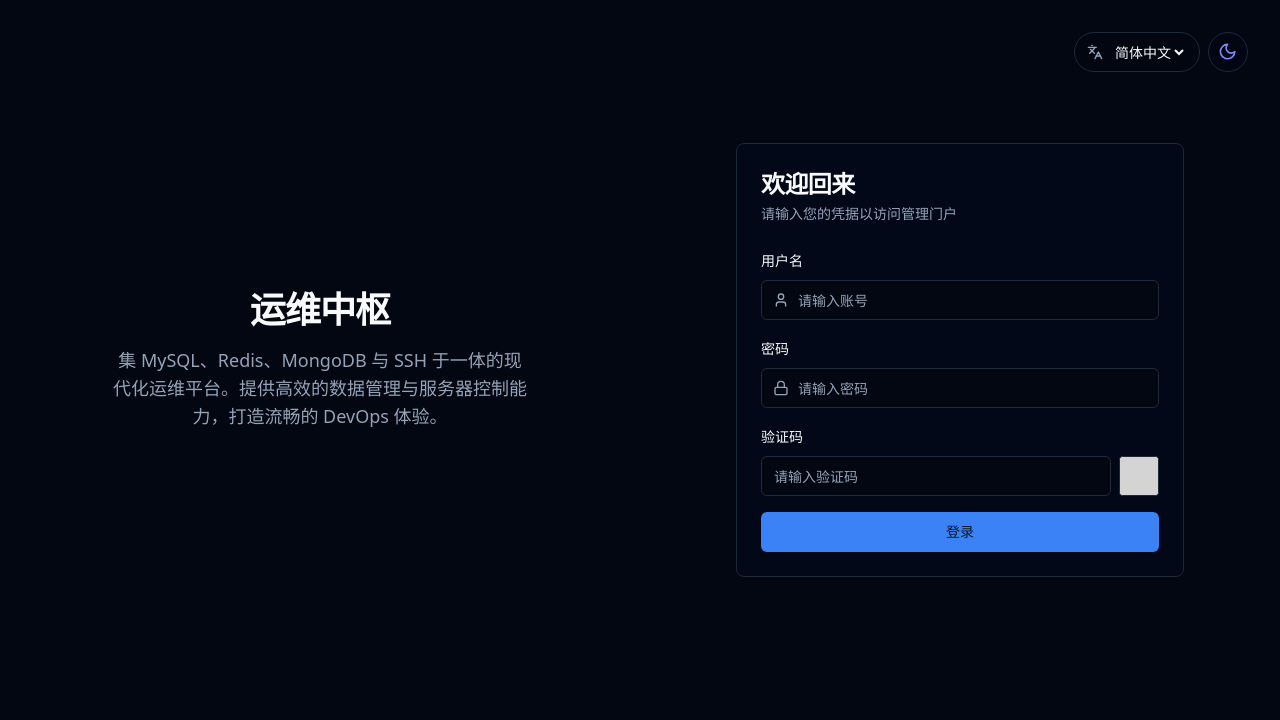
live language switching › updates the login form, an existing error, and document language without clearing input
Type "运维-admin" into the field labelled "用户名" at (960, 300), box [761,280,1159,320]
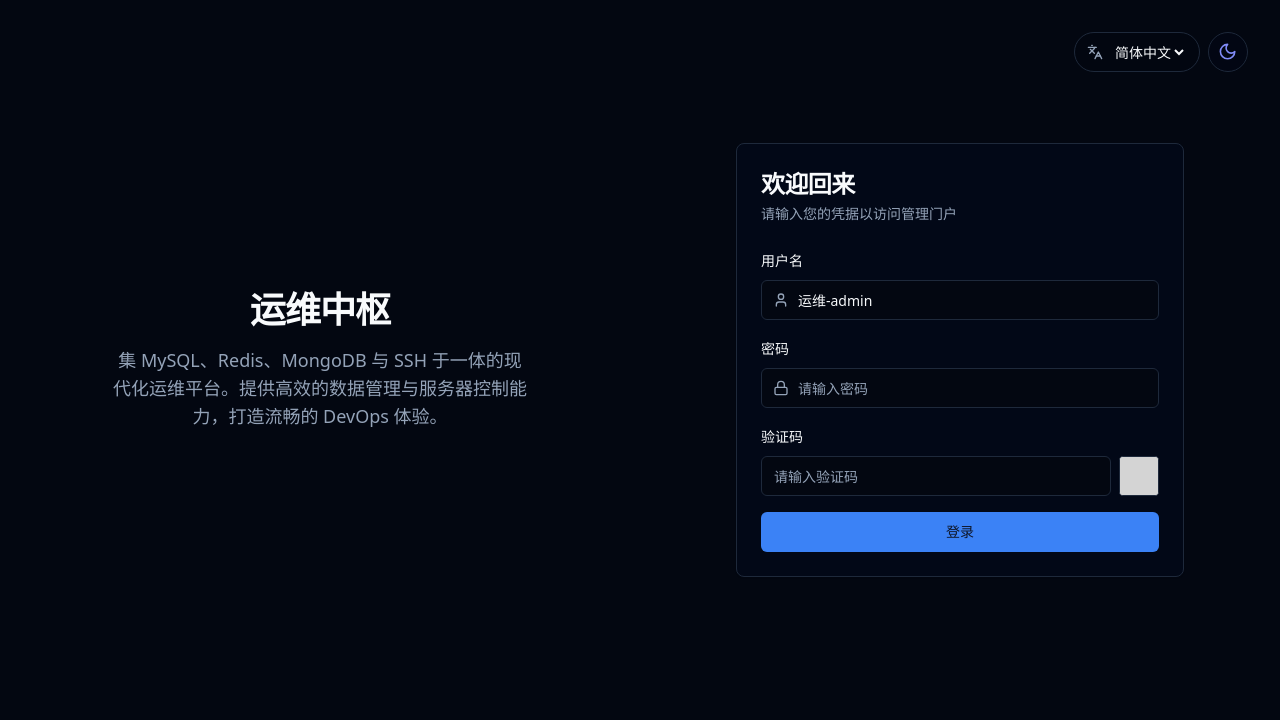
Type "test-password" into the password field labelled "密码" at (960, 388), box [761,368,1159,408]
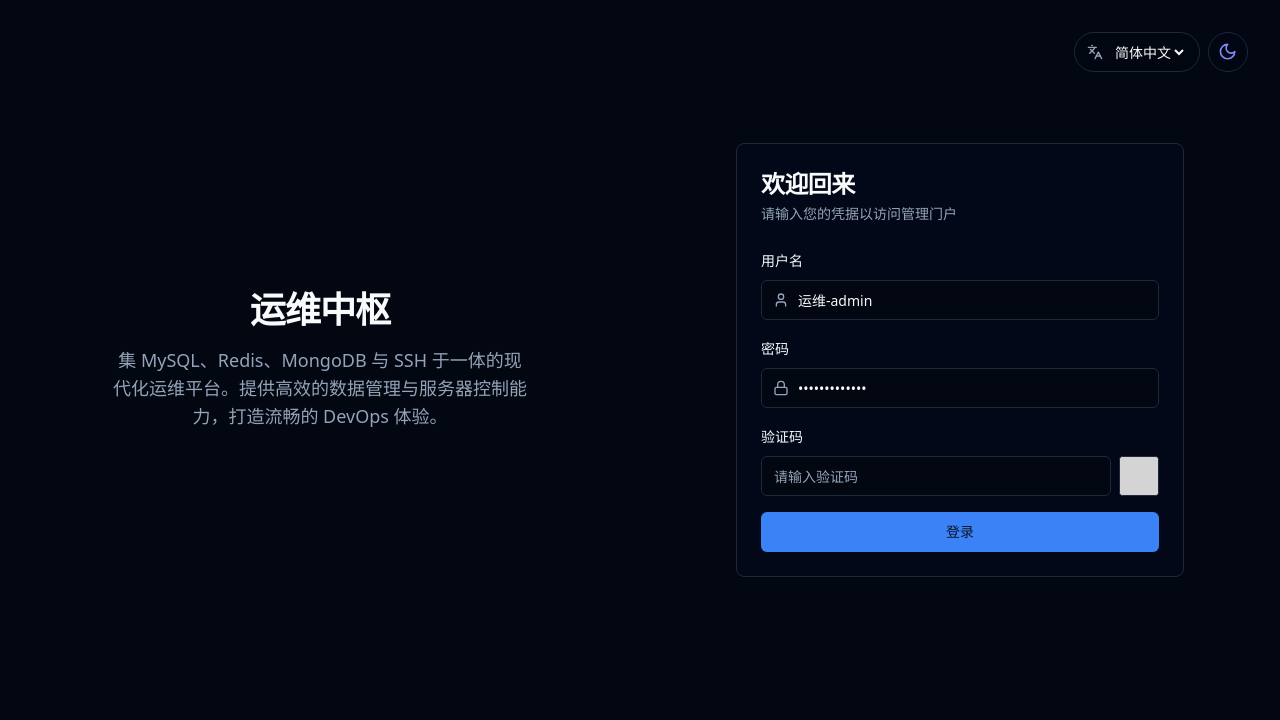
Click the button "登录" at (960, 532), box [761,512,1159,552]
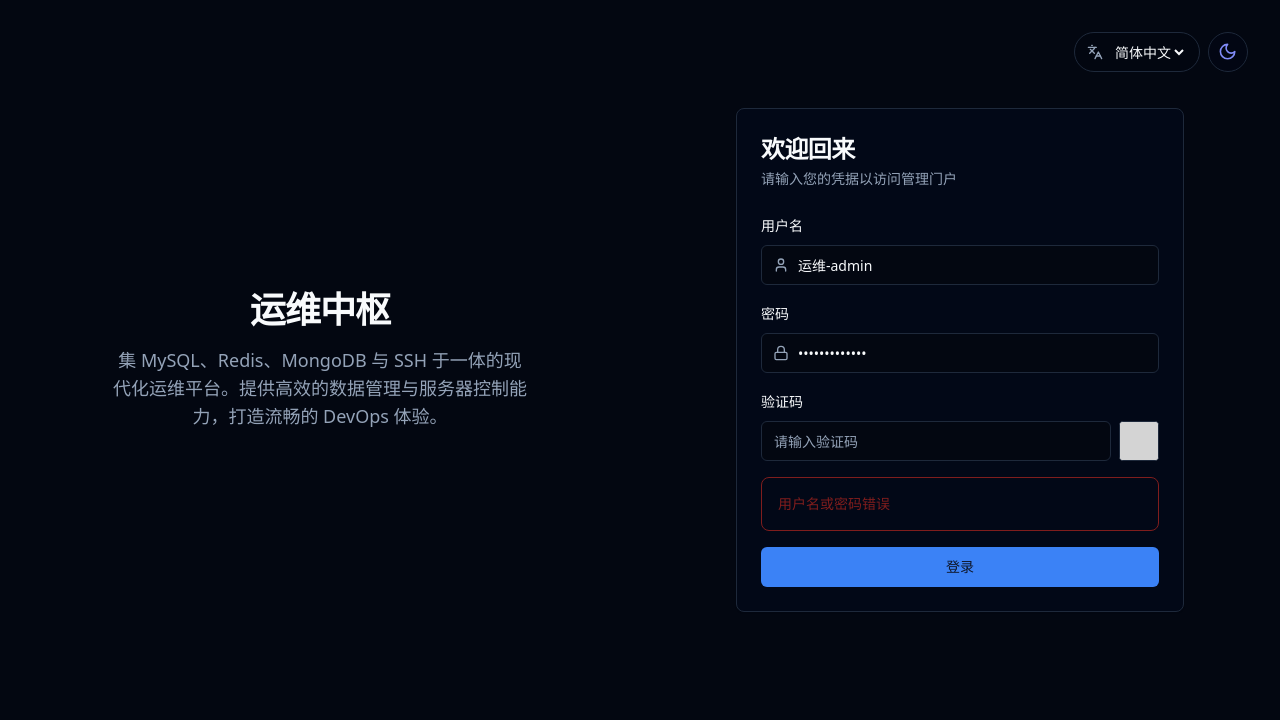
Result: the text "用户名或密码错误" is shown at [778,494,890,513]
Select "English" in the dropdown named "语言" at (1149, 52), box [1111,42,1187,62]
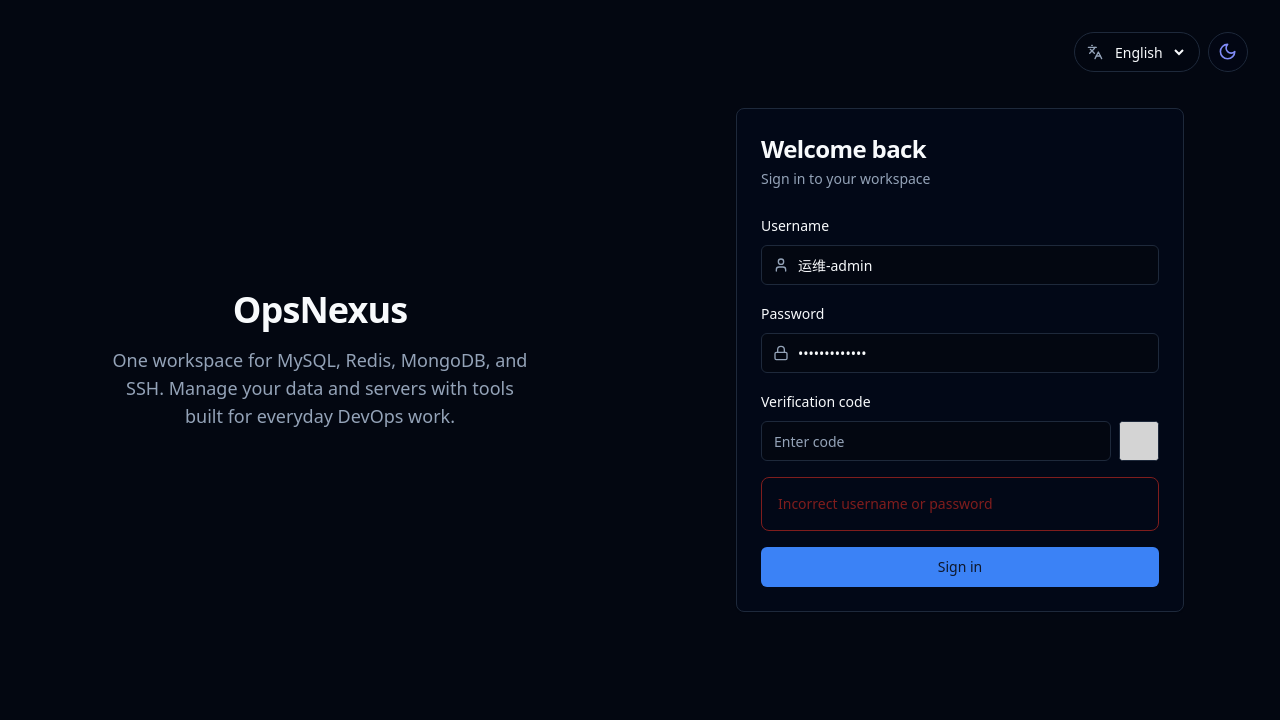
Result: the button "Sign in" is shown at [761,547,1159,587]
Result: the text "Incorrect username or password" is shown at [778,494,993,513]
